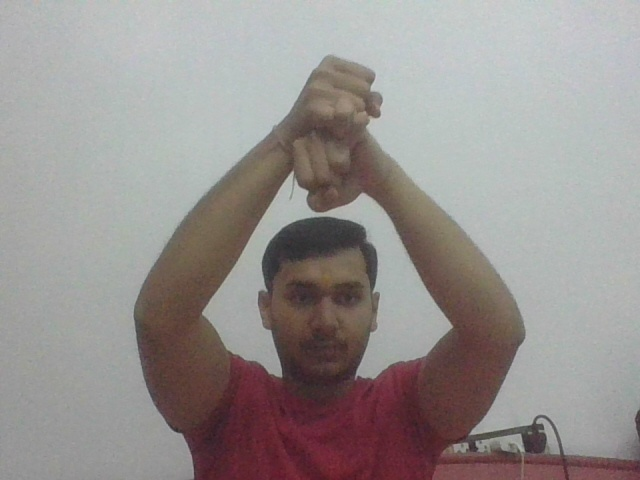S: (287, 54, 384, 215)
